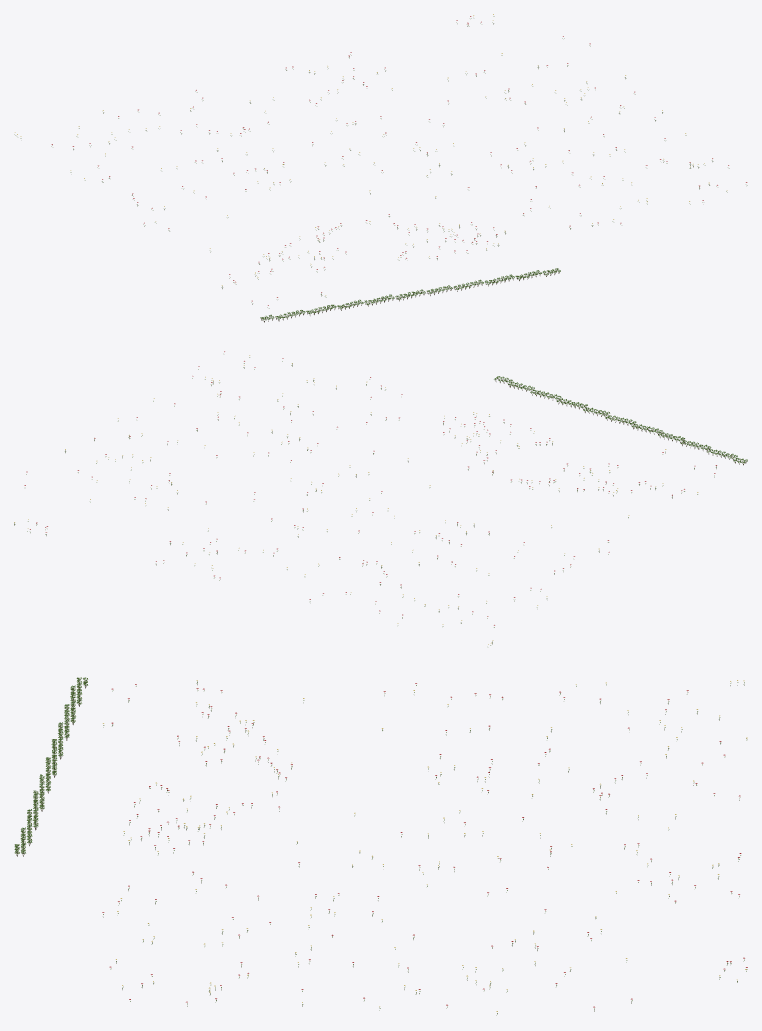
3 renders of one model, top to bottom at view 1: azimuth 30°, elevation 25°; view 2: azimuth 150°, elevation 25°; view 3: azimuth 270°, elevation 25°, orthographic. The views are drawn at different scales.
Visible parts, largest first — view 1: GROUND_FLORA_s_-4_0; view 2: GROUND_FLORA_s_-4_0; view 3: GROUND_FLORA_s_-4_0.
Boxes of the visible parts, box(x1,y1,x2,y2) form: GROUND_FLORA_s_-4_0: box(14, 14, 747, 322); GROUND_FLORA_s_-4_0: box(14, 351, 747, 645); GROUND_FLORA_s_-4_0: box(14, 677, 747, 1015).
Bounding box in the file's own units: 128 × 1.91 × 118.
